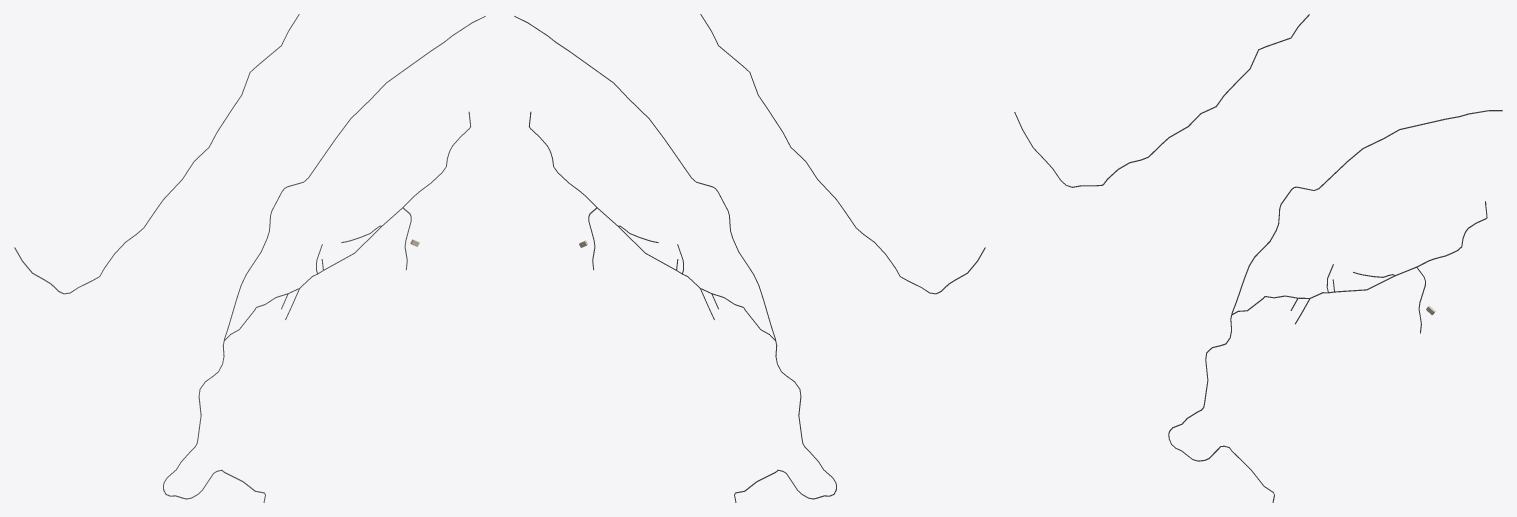
File: historic-palestine-09_19_3505_3138.glb
3 views of the same model, side by side, from view 1: azimuth 30°, elevation 25°; view 2: azimuth 150°, elevation 25°; view 3: azimuth 330°, elevation 25° (orthographic). The views are drawn at different scales.
Visible parts, largest first — view 1: Road .008, Road .007; view 2: Road .008, Road .007; view 3: Road .008, Road .007.
Part boxes in pixels (x1=…): Road .008: x1=163, y1=16, x2=485, y2=502; Road .007: x1=14, y1=14, x2=299, y2=294; Road .008: x1=514, y1=16, x2=836, y2=502; Road .007: x1=700, y1=14, x2=985, y2=294; Road .008: x1=1168, y1=110, x2=1502, y2=502; Road .007: x1=1014, y1=14, x2=1309, y2=187.
Bounding box in the file's own units: 1455 × 1416 × 8.7.
